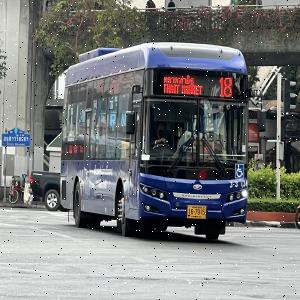Bus Line Number: (213, 72, 238, 100)
Bus Side Number: (228, 179, 248, 188)
Destination Sign: (163, 71, 204, 98)
TSB-Bus: (59, 42, 251, 241)
